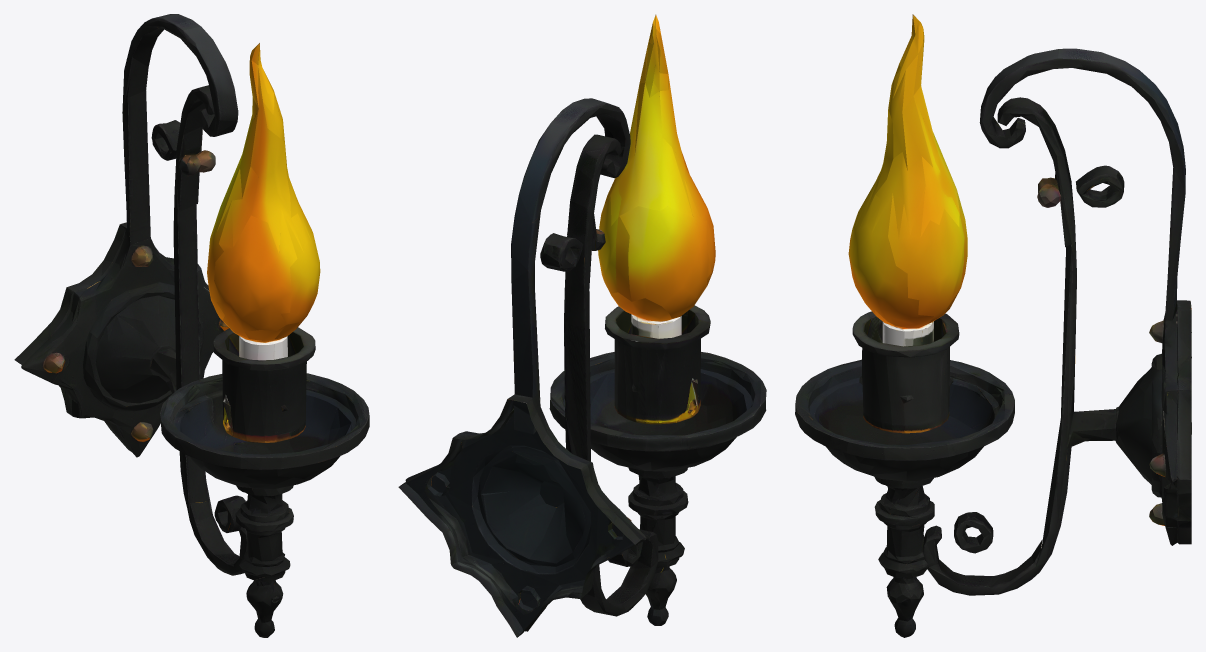
File: prop_torch.glb
3 renders of one model, left to right at view 1: azimuth 30°, elevation 25°; view 2: azimuth 150°, elevation 25°; view 3: azimuth 270°, elevation 25°, orthographic. The views are drawn at different scales.
Bounding box in the file's own units: 0.7778 × 1.9 × 1.1.
1 material, 1 textured.
